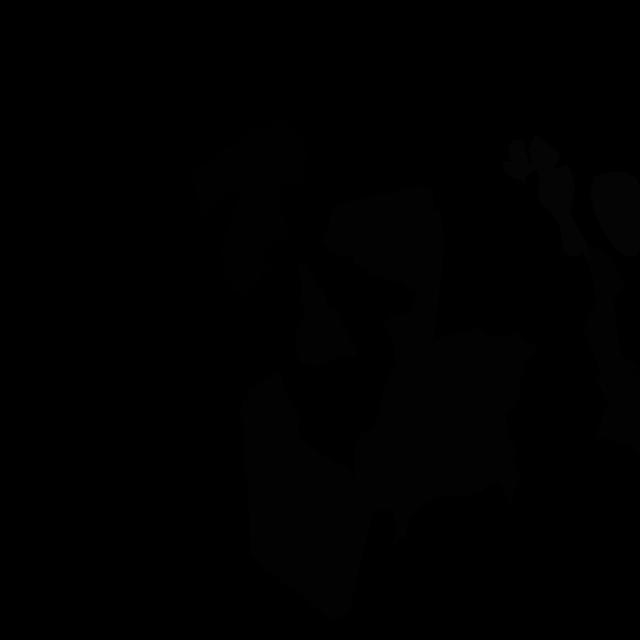cardboard: (354, 329, 537, 544), (238, 371, 378, 621), (322, 185, 444, 366), (582, 241, 640, 403), (294, 259, 360, 368), (594, 373, 640, 456)
rigid_plastic: (188, 121, 308, 297)
soft_plastic: (502, 139, 574, 254), (590, 171, 640, 256), (567, 214, 591, 271), (528, 133, 561, 170)
